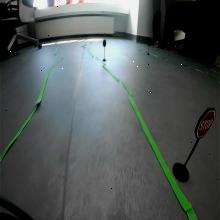stop: (195, 107, 216, 139)
